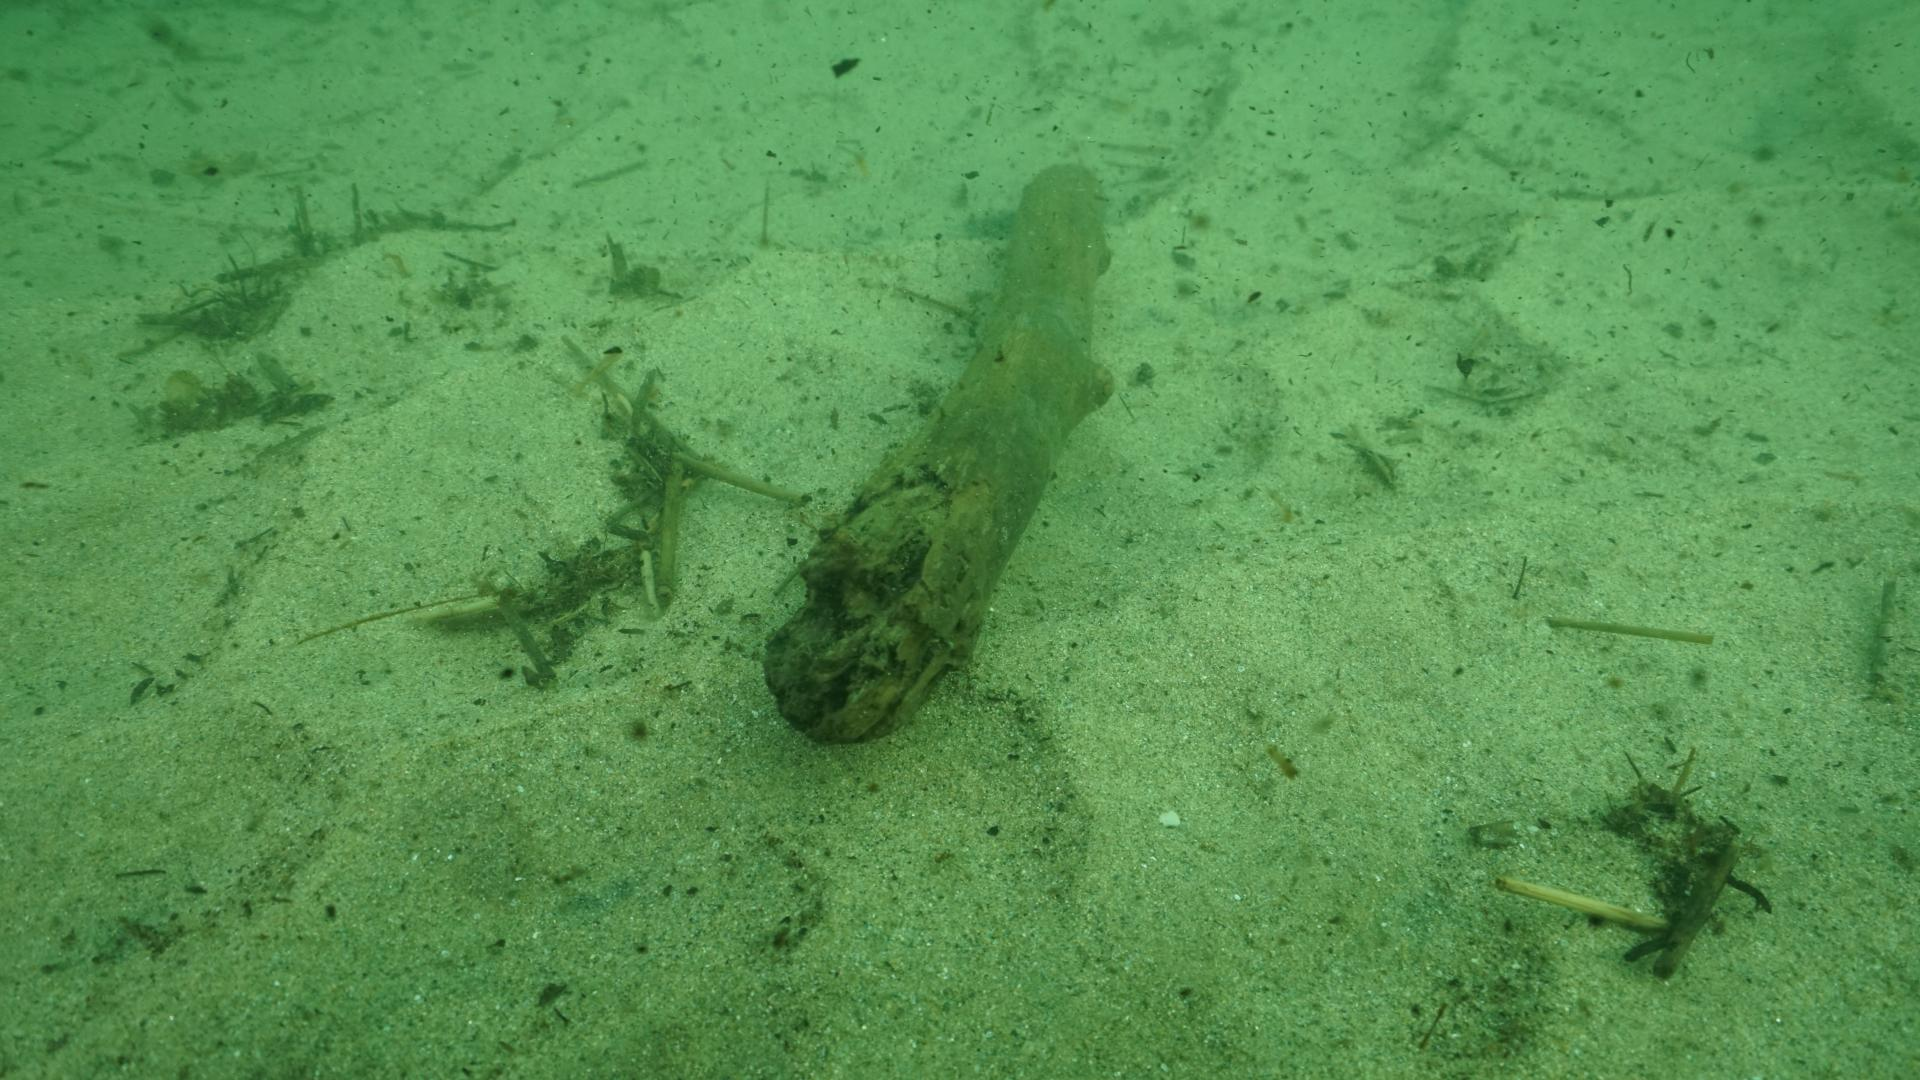wood: (757, 157, 1118, 740)
